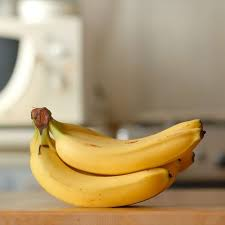banana: (22, 107, 206, 211)
